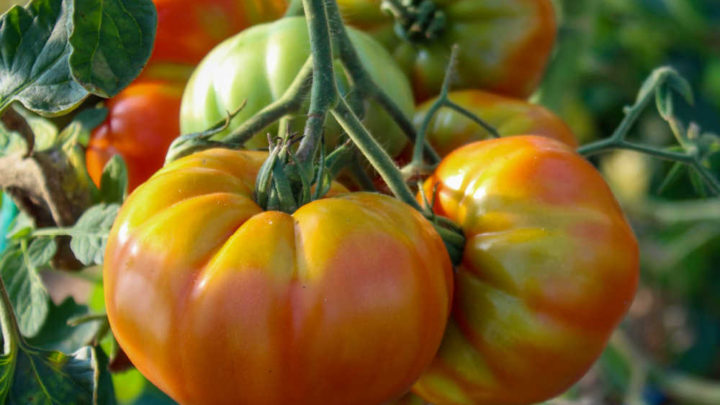tomato: (102, 131, 450, 405)
